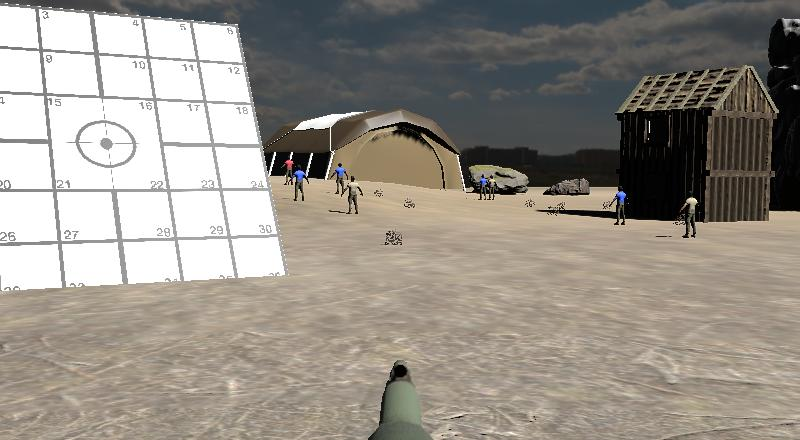House: (617, 65, 778, 221)
Human: (678, 188, 702, 239), (609, 184, 632, 228), (342, 175, 364, 215), (291, 164, 309, 203), (331, 162, 349, 195), (281, 154, 296, 186), (477, 174, 489, 201), (488, 173, 499, 200)
